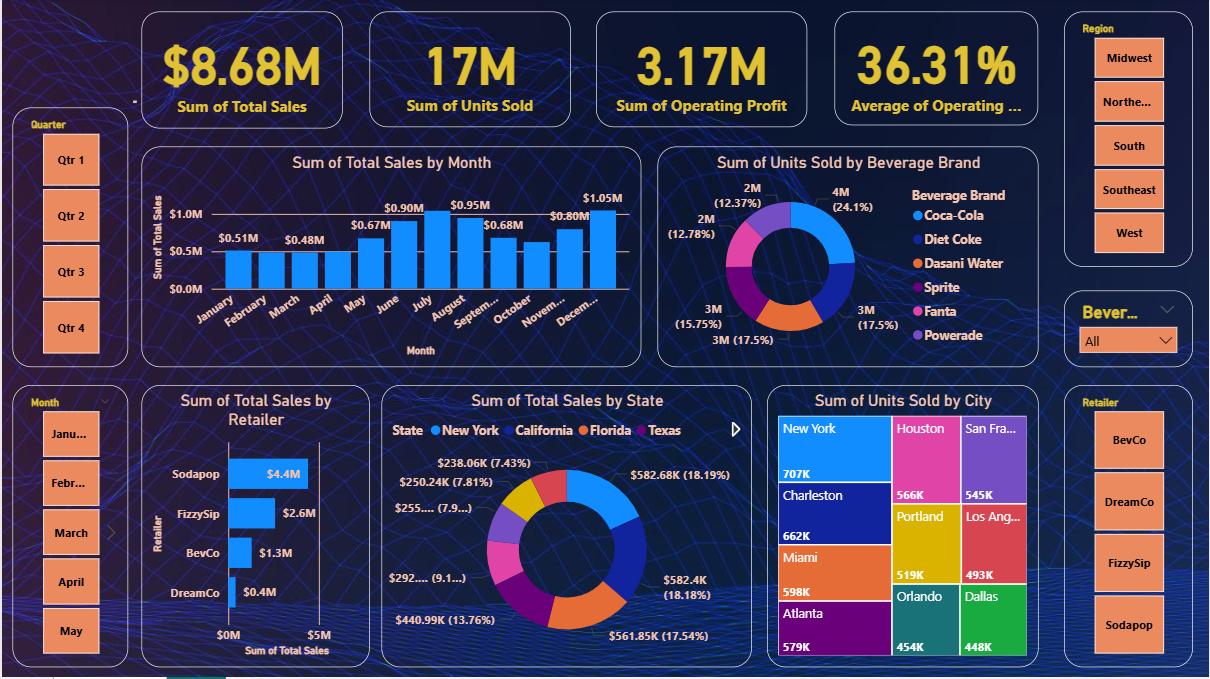

The page's visual inventory and layout, read from the dashboard file:
{"tool":"powerbi","page":{"name":"Page 1","canvas":[1280,720],"ordinal":0},"visuals":[{"type":"slicer","fields":{"Values":["Sheet1.Invoice Date.Variation.Date Hierarchy.Month"]},"box":[11.1,410.4,122.5,299],"z":0},{"type":"slicer","fields":{"Values":["Sheet1.Invoice Date.Variation.Date Hierarchy.Quarter"]},"box":[11.1,116.1,122.5,275.2],"z":1},{"type":"slicer","fields":{"Values":["Sheet1.Region"]},"box":[1126.2,14.3,136.8,270.4],"z":2},{"type":"slicer","fields":{"Values":["Sheet1.Retailer"]},"box":[1126.2,410.4,136.8,299],"z":3},{"type":"slicer","fields":{"Values":["Sheet1.Beverage Brand"]},"box":[1126.2,310.2,136.8,81.1],"z":4},{"type":"card","fields":{"Values":["Sum(Sheet1.Total Sales)"]},"box":[147.9,14.3,213.1,124.1],"z":5},{"type":"card","fields":{"Values":["Sum(Sheet1.Units Sold)"]},"box":[388.9,14.3,213.1,122.5],"z":6},{"type":"card","fields":{"Values":["Sum(Sheet1.Operating Profit)"]},"box":[629.9,14.3,224.3,122.5],"z":7},{"type":"card","fields":{"Values":["Avg(Sheet1.Operating Margin)"]},"box":[882,14.3,216.3,120.9],"z":8},{"type":"columnChart","fields":{"Category":["Sheet1.Invoice Date.Variation.Date Hierarchy.Month"],"Y":["Sum(Sheet1.Total Sales)"]},"box":[147.9,157.5,529.7,233.8],"z":9},{"type":"donutChart","fields":{"Y":["Sum(Sheet1.Units Sold)"],"Category":["Sheet1.Beverage Brand"]},"box":[695.1,157.5,404,233.8],"z":10},{"type":"barChart","fields":{"Y":["Sum(Sheet1.Total Sales)"],"Category":["Sheet1.Retailer"]},"box":[147.9,410.4,241.8,299],"z":11},{"type":"treemap","fields":{"Group":["Sheet1.City"],"Values":["Sum(Sheet1.Units Sold)"]},"box":[811.2,410.4,287.9,299],"z":12},{"type":"donutChart","fields":{"Y":["Sum(Sheet1.Total Sales)"],"Category":["Sheet1.State"]},"box":[402.4,410.4,392.9,299],"z":13},{"type":"textbox","box":[11.1,19.1,136.8,97],"z":14}]}

Visuals, with their boxes in screenshot pixels (x1, y1, x2, y2), scaled from the page's 1280x720 canvas onto the 1210x679 screenshot:
slicer - Sheet1.Invoice Date.Variation.Date Hierarchy.Month: (left=10, top=387, right=126, bottom=669)
slicer - Sheet1.Invoice Date.Variation.Date Hierarchy.Quarter: (left=10, top=109, right=126, bottom=369)
slicer - Sheet1.Region: (left=1065, top=13, right=1194, bottom=268)
slicer - Sheet1.Retailer: (left=1065, top=387, right=1194, bottom=669)
slicer - Sheet1.Beverage Brand: (left=1065, top=293, right=1194, bottom=369)
card - Sum(Sheet1.Total Sales): (left=140, top=13, right=341, bottom=131)
card - Sum(Sheet1.Units Sold): (left=368, top=13, right=569, bottom=129)
card - Sum(Sheet1.Operating Profit): (left=595, top=13, right=807, bottom=129)
card - Avg(Sheet1.Operating Margin): (left=834, top=13, right=1038, bottom=128)
columnChart - Sheet1.Invoice Date.Variation.Date Hierarchy.Month x Sum(Sheet1.Total Sales): (left=140, top=149, right=641, bottom=369)
donutChart - Sum(Sheet1.Units Sold) x Sheet1.Beverage Brand: (left=657, top=149, right=1039, bottom=369)
barChart - Sum(Sheet1.Total Sales) x Sheet1.Retailer: (left=140, top=387, right=368, bottom=669)
treemap - Sheet1.City x Sum(Sheet1.Units Sold): (left=767, top=387, right=1039, bottom=669)
donutChart - Sum(Sheet1.Total Sales) x Sheet1.State: (left=380, top=387, right=752, bottom=669)
textbox: (left=10, top=18, right=140, bottom=109)
